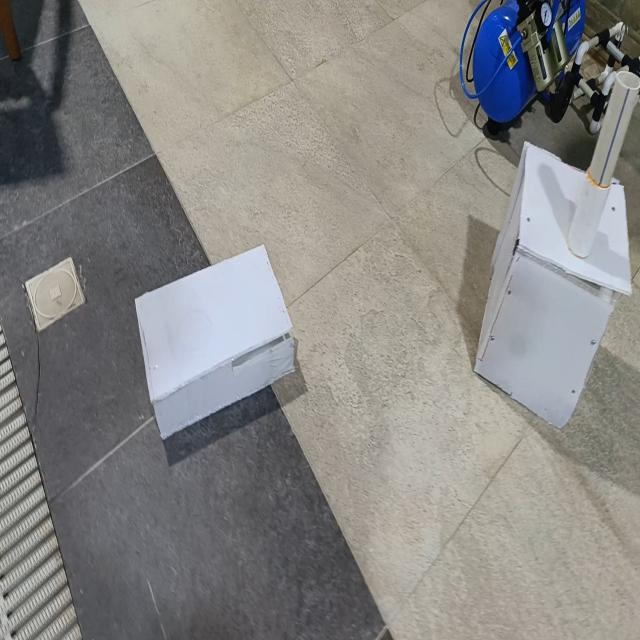Cube: (473, 138, 632, 430)
Cuboid: (134, 241, 296, 440)
